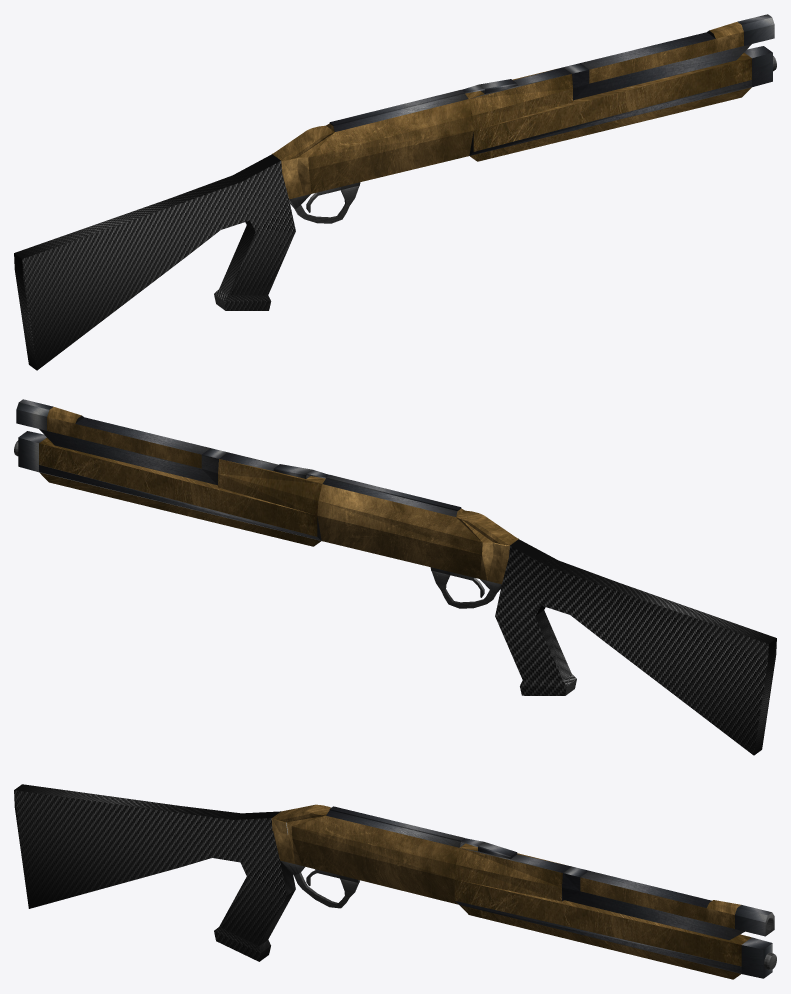
Rendered from ShotgunRemade.fbx.
3 views of the same model, one above another, from view 1: azimuth 30°, elevation 25°; view 2: azimuth 150°, elevation 25°; view 3: azimuth 330°, elevation 25° (orthographic).
Parts seen in each view (by area): view 1: Shotgun; view 2: Shotgun; view 3: Shotgun.
Boxes of the visible parts, left/top/right/bottom form: Shotgun: left=14, top=14, right=776, bottom=370; Shotgun: left=14, top=399, right=776, bottom=755; Shotgun: left=14, top=784, right=776, bottom=979.
Size of the model in its own units: 17.42 by 3.79 by 0.7601.
Materials: 6 (5 with a texture image).
